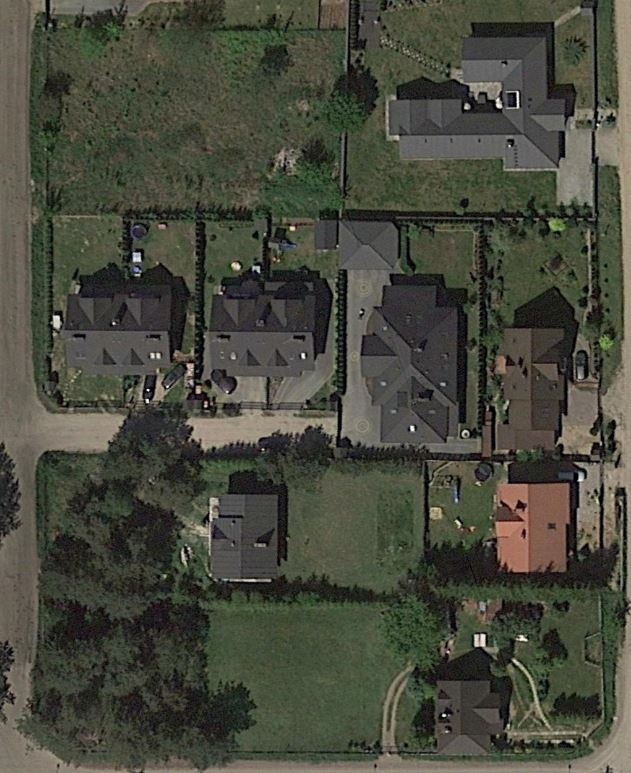family house: (356, 278, 466, 442)
garage: (382, 30, 577, 179), (495, 322, 580, 439), (492, 479, 577, 579), (202, 489, 283, 587), (427, 677, 507, 757), (338, 219, 401, 273)
terrace house: (203, 275, 318, 380), (63, 283, 180, 375)
